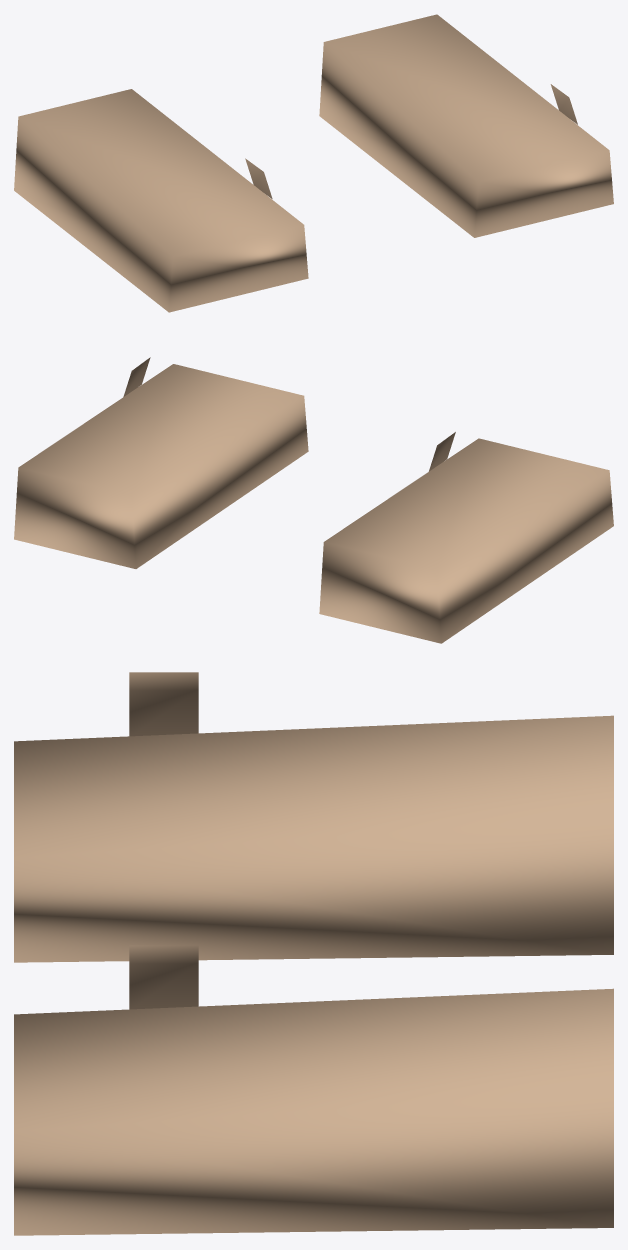
The model's file is guoc_moc.glb.
3 views of the same model, one above another, from view 1: azimuth 30°, elevation 25°; view 2: azimuth 150°, elevation 25°; view 3: azimuth 270°, elevation 25° (orthographic). The views are drawn at different scales.
Visible parts, largest first — view 1: Accessory_GuocMoc_Node; view 2: Accessory_GuocMoc_Node; view 3: Accessory_GuocMoc_Node.
Boxes of the visible parts, bbox=[...] form: Accessory_GuocMoc_Node: bbox=[14, 14, 613, 312]; Accessory_GuocMoc_Node: bbox=[14, 357, 613, 643]; Accessory_GuocMoc_Node: bbox=[14, 672, 613, 1235].
Size of the model in its own units: 0.204 by 0.051 by 0.13.
